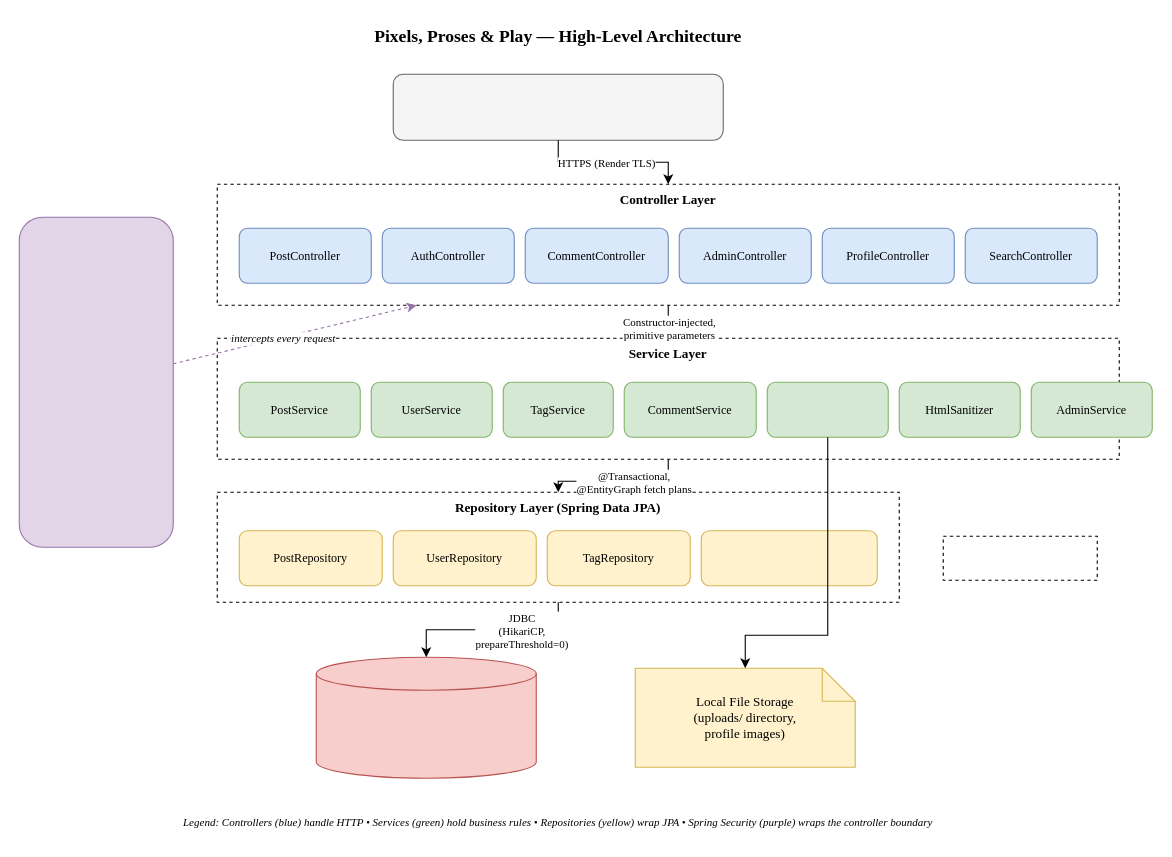
This 1172x857 diagram has some shape labels left out. Here are the shapes that lost their labels. From the top down, the centre of each, then its label:
[557,106]: Web Browser (Thymeleaf-rendered HTML, session cookie)
[95,381]: Spring Security Filter Chain (authn, authz, CSRF, BCrypt)
[827,409]: StorageService
[788,558]: CommentRepository
[1019,557]: Hibernate 6 / JPA (ddl-auto=validate)
[425,717]: PostgreSQL (Neon, pooled endpoint) Managed by Flyway
